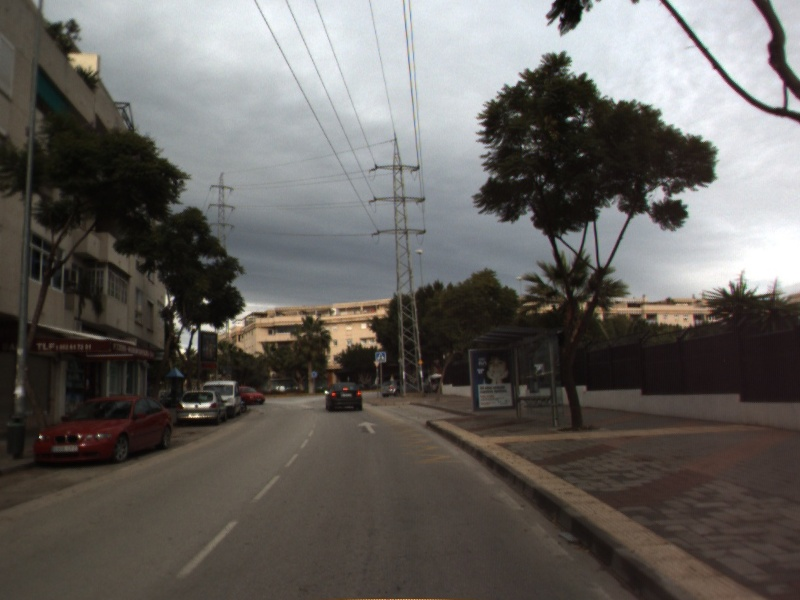STRAIGHT: (355, 419, 380, 436)
